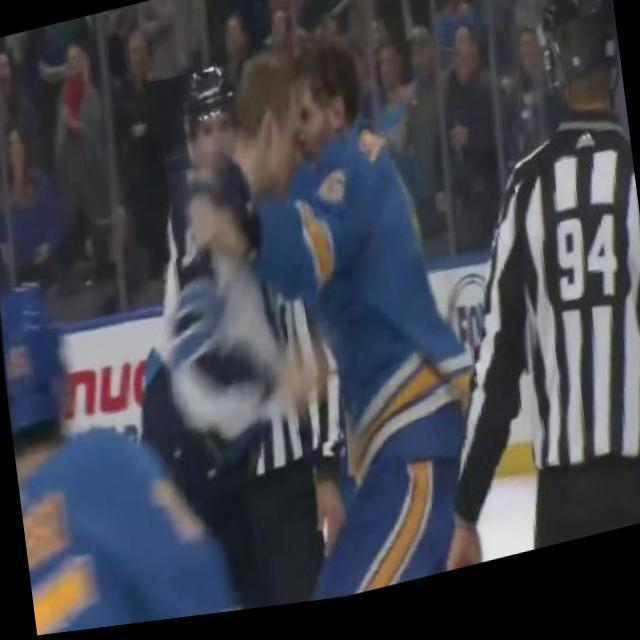fight: (114, 6, 508, 628)
